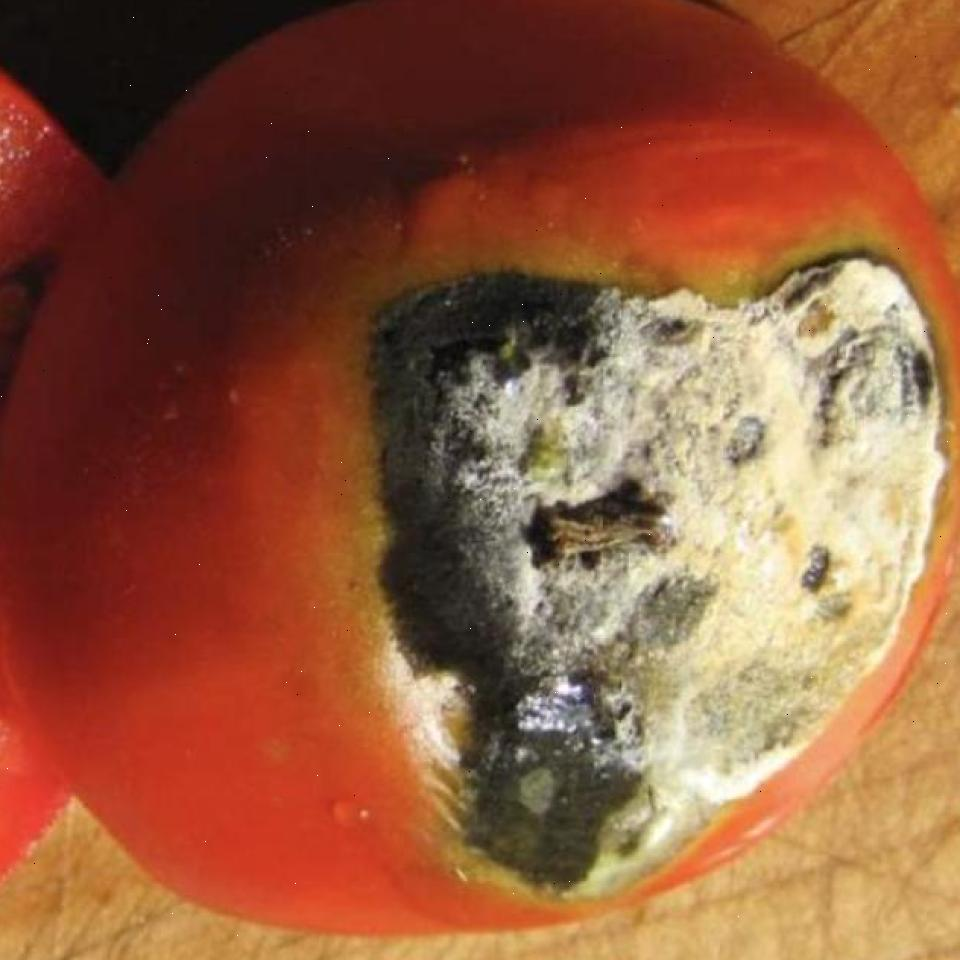Blossom_end_rot: (382, 187, 960, 937)
